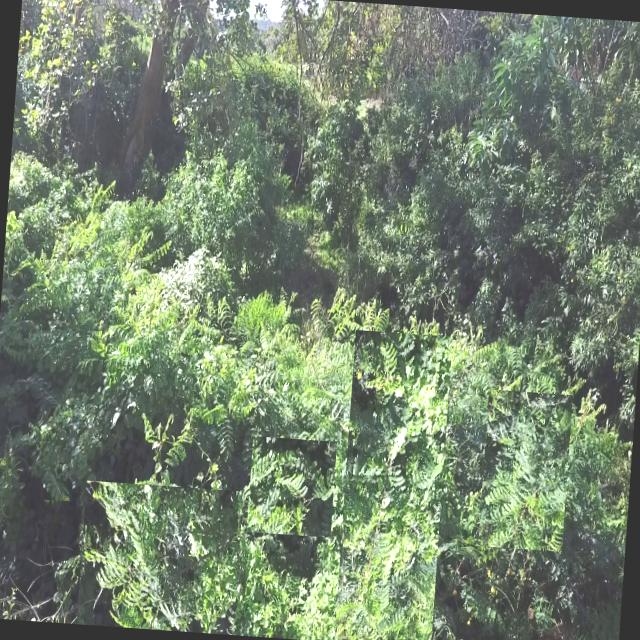Mysore-Thorn-Weed: (334, 329, 452, 640), (0, 169, 168, 380), (76, 480, 243, 635), (160, 323, 284, 466), (478, 389, 572, 551), (246, 436, 337, 538), (42, 473, 72, 501)
